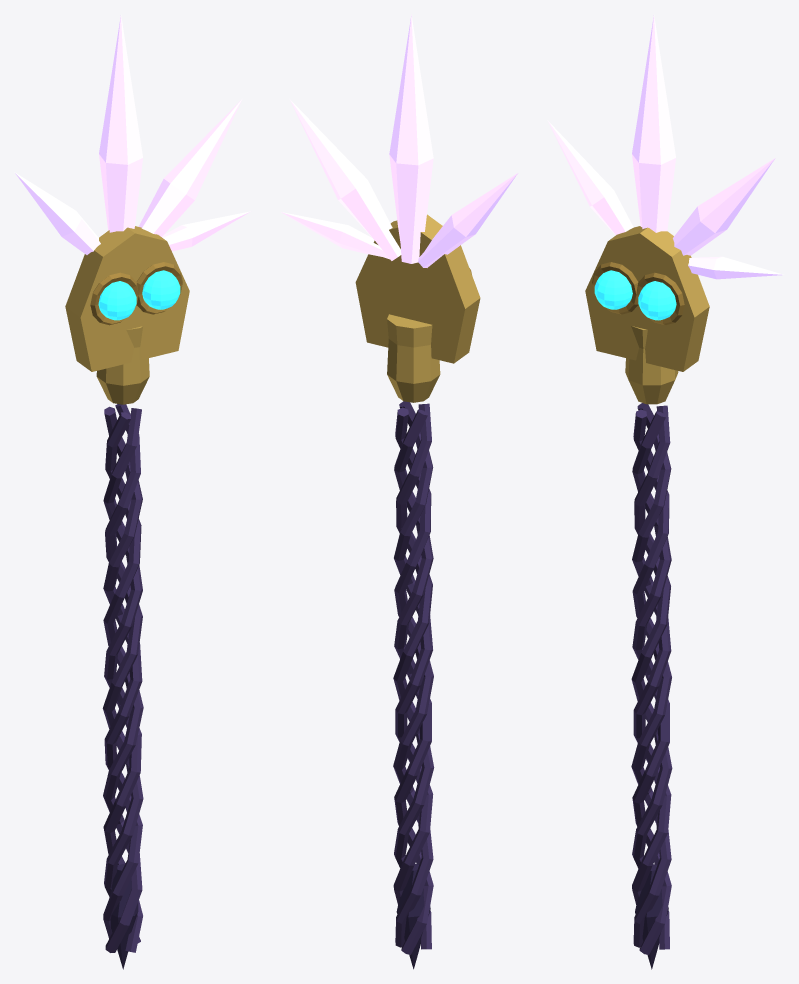
The model's file is staff_twinjewel.glb.
3 views of the same model, side by side, from view 1: azimuth 30°, elevation 25°; view 2: azimuth 150°, elevation 25°; view 3: azimuth 330°, elevation 25° (orthographic).
Visible parts, largest first — view 1: Tj_Frame, Tj_Crystal0, Tj_Strand2, Tj_Strand3, Tj_Strand1, Tj_Strand0, Tj_Crystal1, Tj_Neck, Tj_Crystal2, Tj_Crystal3, Tj_Eye1, Tj_Eye0 (+3 smaller); view 2: Tj_Frame, Tj_Crystal0, Tj_Strand1, Tj_Strand0, Tj_Strand2, Tj_Strand3, Tj_Crystal1, Tj_Neck, Tj_Crystal2, Tj_Crystal3, Tj_Tip; view 3: Tj_Frame, Tj_Crystal0, Tj_Strand3, Tj_Strand2, Tj_Strand0, Tj_Strand1, Tj_Crystal1, Tj_Crystal2, Tj_Neck, Tj_Crystal3, Tj_Eye0, Tj_Eye1 (+3 smaller).
Part boxes in pixels (x1=…): Tj_Frame: x1=65, y1=226, x2=189, y2=371; Tj_Crystal0: x1=99, y1=15, x2=142, y2=232; Tj_Strand2: x1=103, y1=412, x2=143, y2=952; Tj_Strand3: x1=103, y1=408, x2=142, y2=952; Tj_Strand1: x1=103, y1=406, x2=142, y2=938; Tj_Strand0: x1=102, y1=404, x2=143, y2=943; Tj_Crystal1: x1=138, y1=99, x2=242, y2=236; Tj_Neck: x1=96, y1=326, x2=149, y2=404; Tj_Crystal2: x1=14, y1=172, x2=100, y2=254; Tj_Crystal3: x1=162, y1=211, x2=250, y2=251; Tj_Eye1: x1=142, y1=270, x2=180, y2=309; Tj_Eye0: x1=98, y1=281, x2=136, y2=320; Tj_Frame: x1=355, y1=214, x2=480, y2=363; Tj_Crystal0: x1=389, y1=14, x2=433, y2=263; Tj_Strand1: x1=394, y1=409, x2=433, y2=954; Tj_Strand0: x1=393, y1=407, x2=433, y2=947; Tj_Strand2: x1=393, y1=403, x2=434, y2=949; Tj_Strand3: x1=393, y1=401, x2=433, y2=904; Tj_Crystal1: x1=289, y1=99, x2=401, y2=260; Tj_Neck: x1=387, y1=314, x2=440, y2=402; Tj_Crystal2: x1=418, y1=173, x2=517, y2=267; Tj_Crystal3: x1=281, y1=212, x2=389, y2=259; Tj_Tip: x1=396, y1=864, x2=430, y2=969; Tj_Frame: x1=585, y1=226, x2=709, y2=371; Tj_Crystal0: x1=632, y1=15, x2=675, y2=232; Tj_Strand3: x1=632, y1=411, x2=671, y2=954; Tj_Strand2: x1=631, y1=409, x2=671, y2=947; Tj_Strand0: x1=631, y1=405, x2=672, y2=949; Tj_Strand1: x1=632, y1=403, x2=671, y2=904; Tj_Crystal1: x1=673, y1=158, x2=775, y2=255; Tj_Crystal2: x1=547, y1=120, x2=633, y2=235; Tj_Neck: x1=625, y1=326, x2=678, y2=404; Tj_Crystal3: x1=688, y1=256, x2=783, y2=279; Tj_Eye0: x1=594, y1=270, x2=632, y2=309; Tj_Eye1: x1=638, y1=281, x2=676, y2=320.
Size of the model in its own units: 0.6305 by 2.42 by 0.1784.
